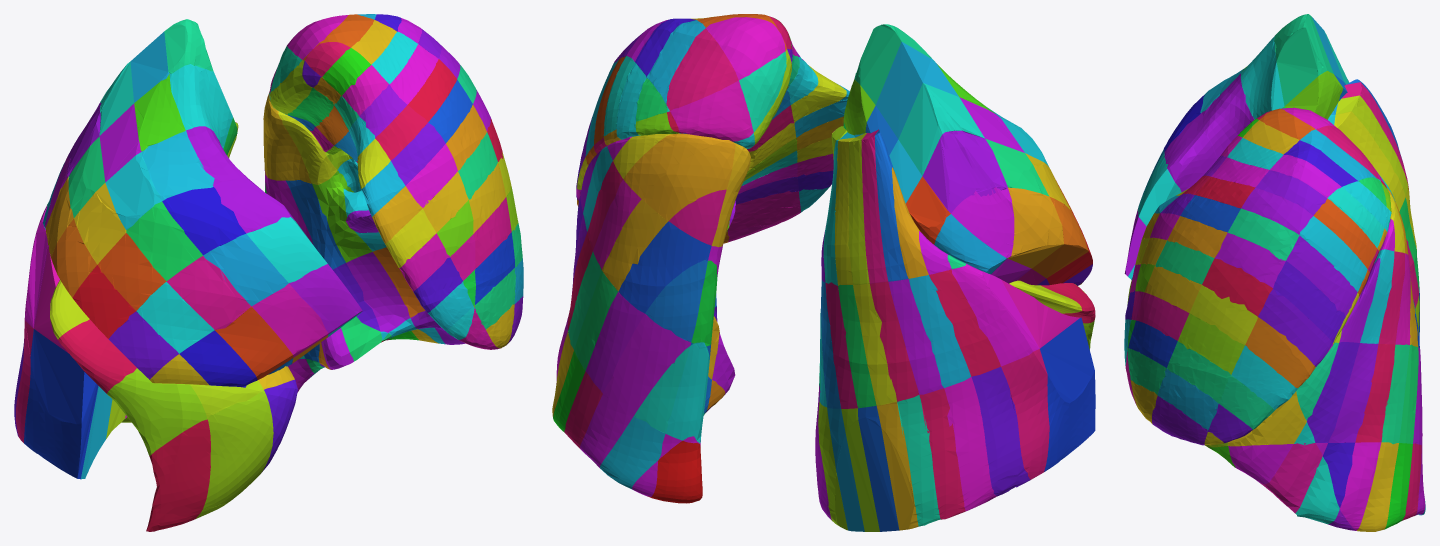
The model's file is lung-female-small.glb.
The picture shows the model from 3 angles, left to right: view 1: azimuth 30°, elevation 25°; view 2: azimuth 150°, elevation 25°; view 3: azimuth 270°, elevation 25°; orthographic projection. The views are drawn at different scales.
Parts seen in each view (by area): view 1: RLL-1B3, RML-1A2, RML-1A3, RML-2A3, RUL-5A3, RUL-4A4, RUL-2A5, RUL-4A3, RUL-5A4, RUL-3A4, RUL-6A4, RML-3A3 (+75 smaller); view 2: RLL-1B3, RUL-1A2, RLL-2A3, LLL-3A3, RLL-1A2, RLL-1A3, LLL-4A2, RLL-3A3, LLL-5A1, RUL-1A3, RLL-4A3, RUL-1A4 (+83 smaller); view 3: RUL-1A5, RUL-4A5, LUL-9A4, LUL-8A4, LLL-9A3, LLL-8A3, LUL-10A4, LLL-9B4, RUL-3A5, LUL-7A4, RUL-2A5, LUL-9A3 (+67 smaller).
Part boxes in pixels (x1=…): RLL-1B3: x1=24, y1=329, x2=98, y2=479; RML-1A2: x1=196, y1=390, x2=273, y2=518; RML-1A3: x1=146, y1=419, x2=210, y2=531; RML-2A3: x1=107, y1=368, x2=207, y2=455; RUL-5A3: x1=166, y1=256, x2=251, y2=329; RUL-4A4: x1=162, y1=186, x2=245, y2=255; RUL-2A5: x1=169, y1=64, x2=232, y2=149; RUL-4A3: x1=126, y1=201, x2=202, y2=281; RUL-5A4: x1=203, y1=233, x2=288, y2=306; RUL-3A4: x1=142, y1=130, x2=214, y2=200; RUL-6A4: x1=252, y1=283, x2=328, y2=357; RML-3A3: x1=58, y1=319, x2=136, y2=393; RLL-1B3: x1=1040, y1=317, x2=1095, y2=471; RUL-1A2: x1=922, y1=130, x2=1007, y2=213; RLL-2A3: x1=971, y1=367, x2=1030, y2=496; LLL-3A3: x1=603, y1=314, x2=690, y2=415; RLL-1A2: x1=951, y1=263, x2=1039, y2=366; RLL-1A3: x1=1001, y1=349, x2=1049, y2=479; LLL-4A2: x1=618, y1=221, x2=711, y2=313; RLL-3A3: x1=944, y1=377, x2=996, y2=511; LLL-5A1: x1=642, y1=140, x2=735, y2=220; RUL-1A3: x1=898, y1=83, x2=984, y2=175; RLL-4A3: x1=919, y1=388, x2=965, y2=519; RUL-1A4: x1=875, y1=42, x2=958, y2=138; RUL-1A5: x1=1274, y1=14, x2=1333, y2=106; RUL-4A5: x1=1164, y1=113, x2=1219, y2=191; LUL-9A4: x1=1258, y1=288, x2=1332, y2=366; LUL-8A4: x1=1273, y1=261, x2=1345, y2=343; LLL-9A3: x1=1307, y1=342, x2=1359, y2=442; LLL-8A3: x1=1328, y1=343, x2=1378, y2=442; LUL-10A4: x1=1245, y1=317, x2=1315, y2=388; LLL-9B4: x1=1260, y1=443, x2=1322, y2=513; RUL-3A5: x1=1201, y1=73, x2=1254, y2=155; LUL-7A4: x1=1286, y1=235, x2=1357, y2=316; RUL-2A5: x1=1240, y1=36, x2=1284, y2=119; LUL-9A3: x1=1202, y1=258, x2=1272, y2=316.
Bounding box in the file's own units: 0.2508 × 0.2402 × 0.1528.
